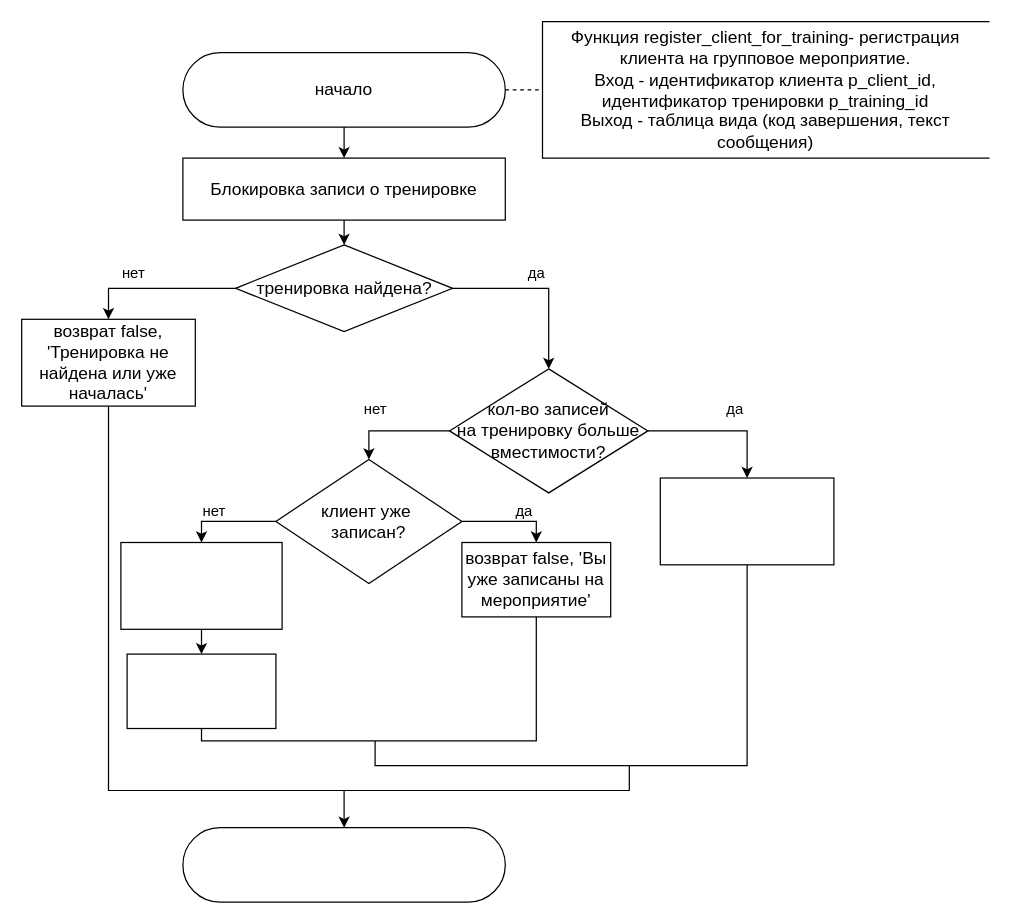
The diagram is 1011 pixels wide and 924 high, and some of its shapes have lost their labels. Each missing label, with the centre of its shape:
возврат false, 'Мест на данное мероприятие не осталось ': the point at 746,521
возврат true, 'Вы успешно записаны ': the point at 201,690
вставка записи о регистрации клиента на мероприятие: the point at 201,585
конец: the point at 343,864
